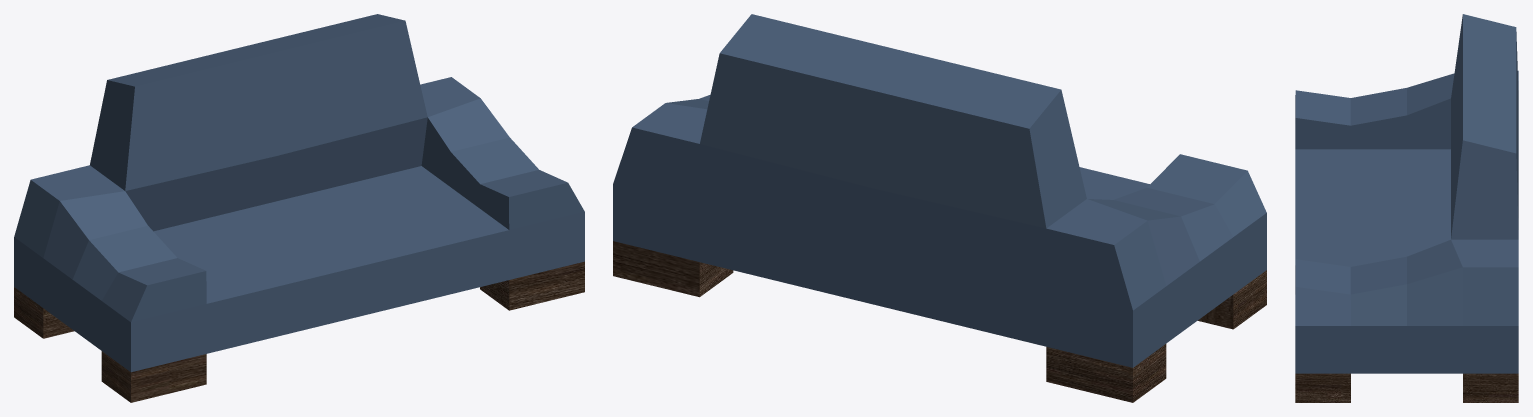
The model's file is Couch1.fbx.
3 renders of one model, left to right at view 1: azimuth 30°, elevation 25°; view 2: azimuth 150°, elevation 25°; view 3: azimuth 270°, elevation 25°, orthographic. The views are drawn at different scales.
Parts seen in each view (by area): view 1: Cube.002; view 2: Cube.002; view 3: Cube.002.
Part boxes in pixels (x1,y1,x2,y2): Cube.002: (14, 14, 584, 402); Cube.002: (613, 14, 1266, 402); Cube.002: (1295, 14, 1518, 402).
Size of the model in its own units: 788 by 382 by 351.
